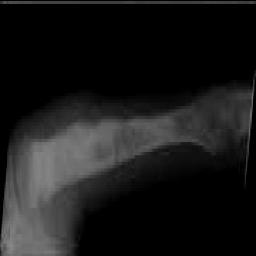cancer: (31, 79, 246, 203)
